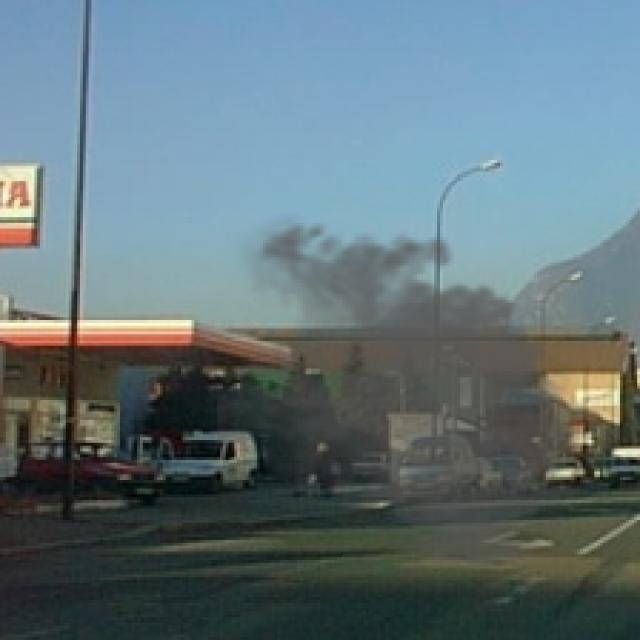Smoke: (217, 212, 603, 577)
